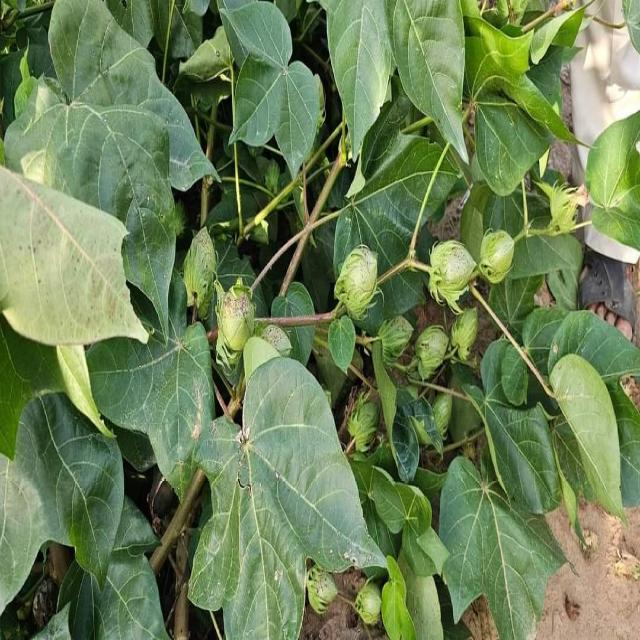Cotton Bud: (549, 178, 585, 228)
Early Boll: (428, 235, 477, 303), (335, 247, 382, 314), (178, 221, 216, 301), (218, 277, 256, 354), (480, 224, 516, 284), (417, 317, 451, 379), (347, 391, 382, 446), (378, 311, 414, 360), (307, 562, 338, 614), (454, 303, 481, 357), (356, 574, 383, 624), (262, 319, 295, 357), (432, 389, 454, 436)
